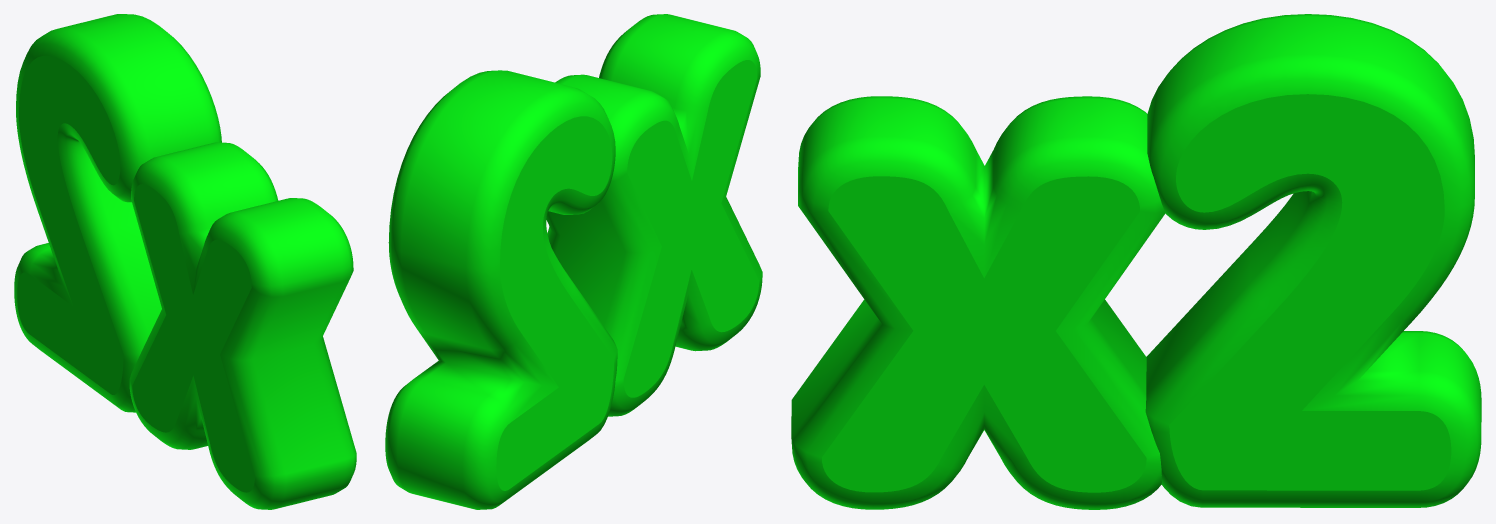
The picture shows the model from 3 angles, left to right: view 1: azimuth 30°, elevation 25°; view 2: azimuth 150°, elevation 25°; view 3: azimuth 270°, elevation 25°; orthographic projection. The views are drawn at different scales.
Visible parts, largest first — view 1: Text; view 2: Text; view 3: Text.
Boxes of the visible parts, box(x1,y1,x2,y2) form: Text: box(14, 14, 356, 509); Text: box(385, 14, 762, 509); Text: box(791, 14, 1481, 509).
Size of the model in its own units: 17.89 by 58.53 by 80.87.
